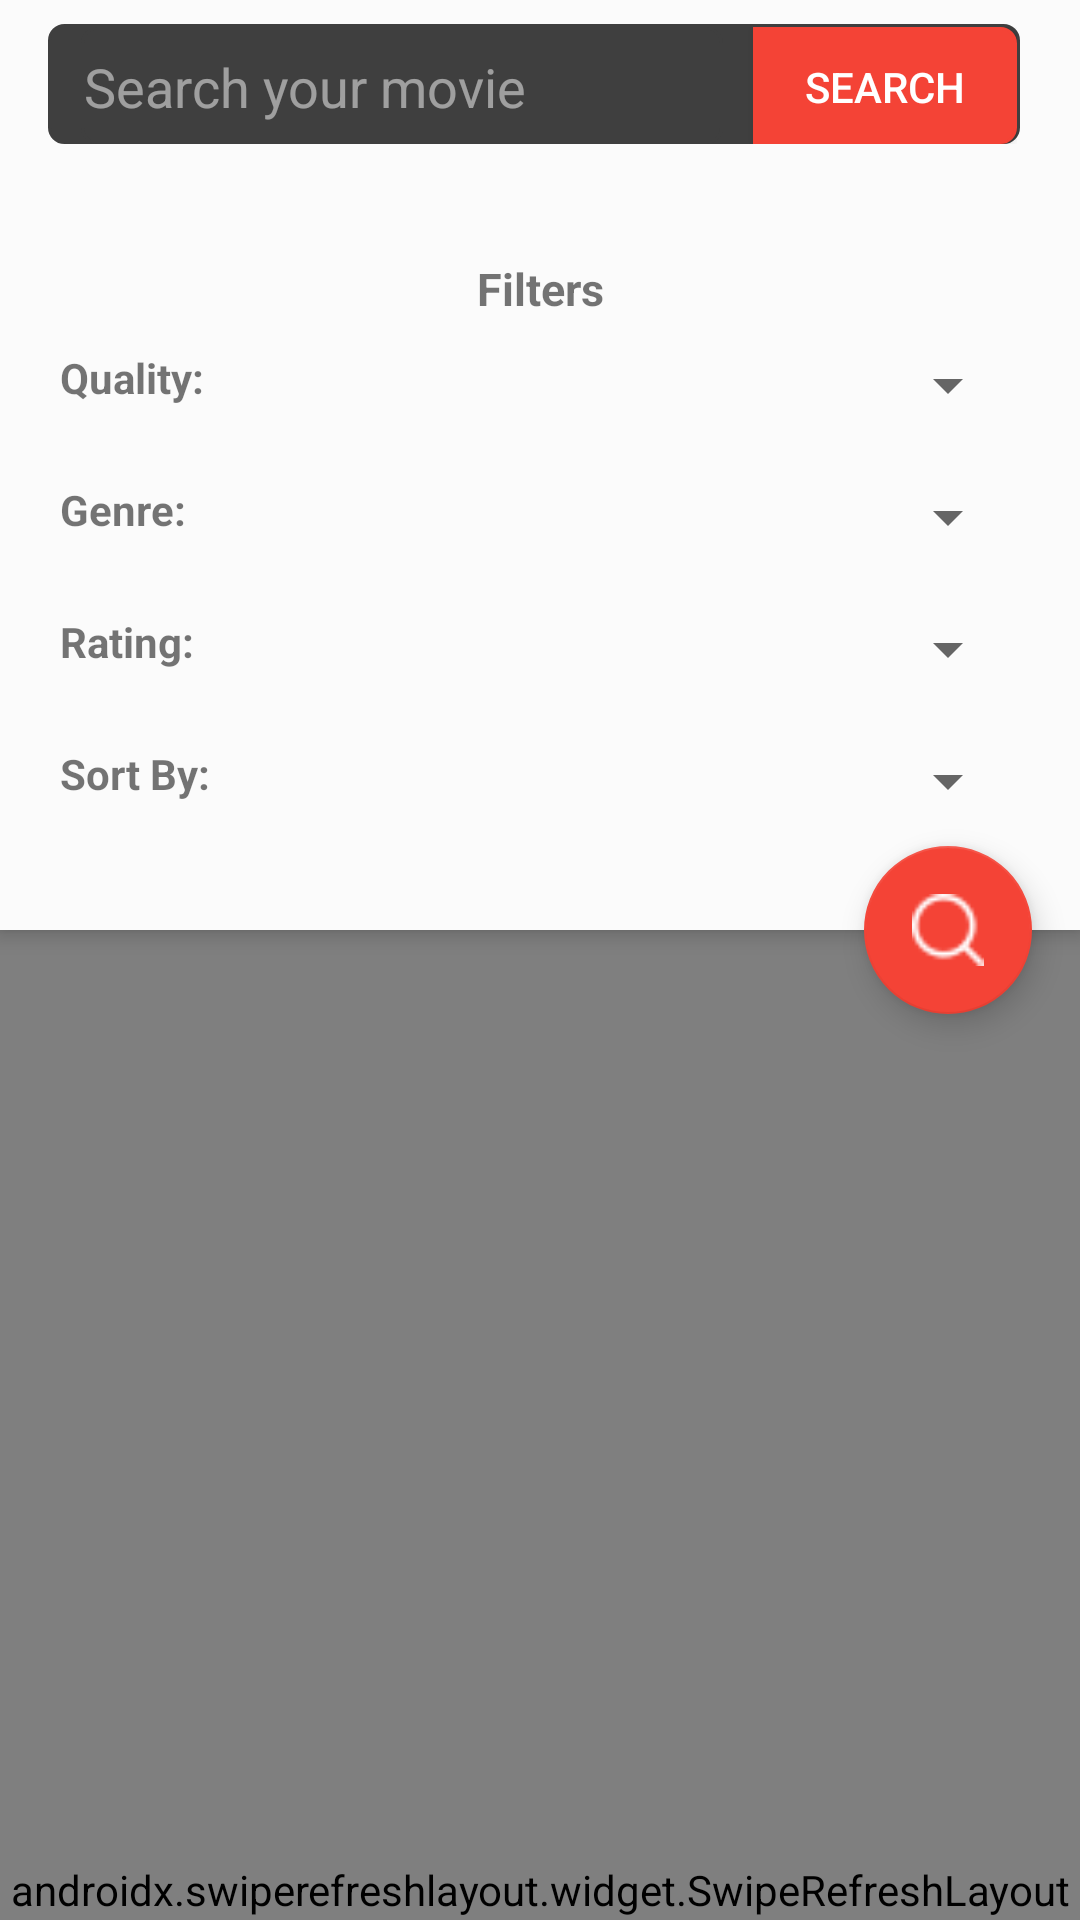

Icons on this 1080 x 1920 Android screen, each with the point to tap as (x,y):
search: (948,930)
